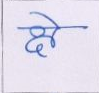e_matra: (30, 12, 61, 26)
